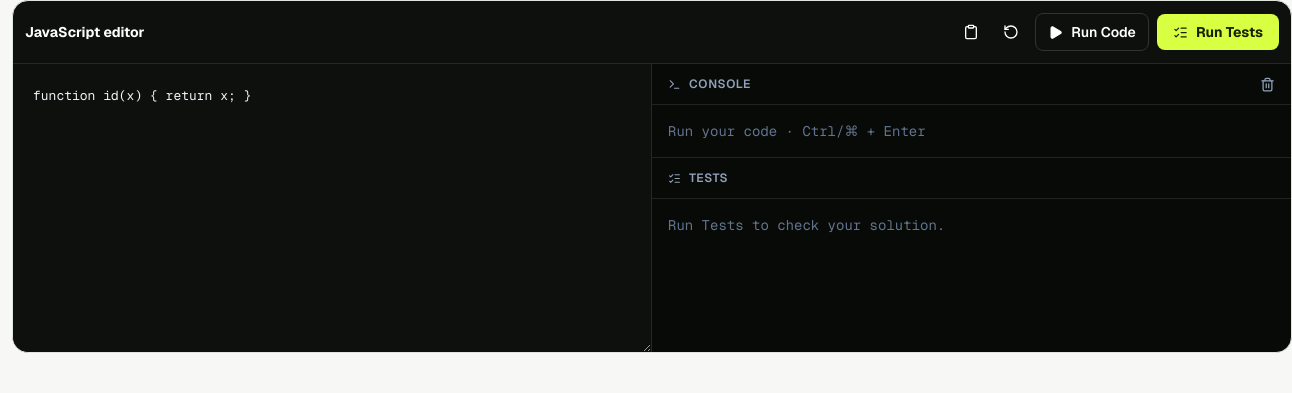
Test: CodeRunner › reports pass/fail counts and expected/received for a visible failure
Click the button "Run Tests": (1218, 32) [1157,14,1279,50]
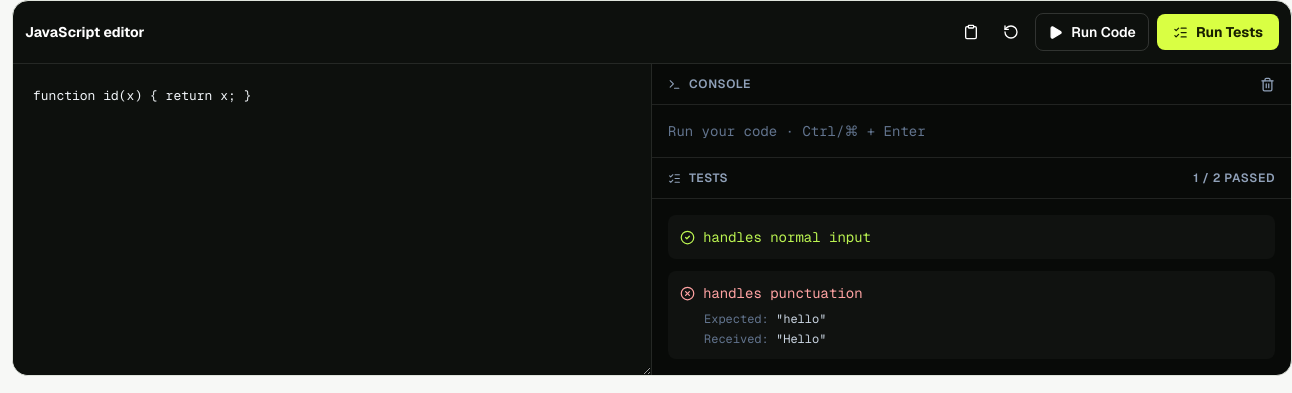
Now the text "1 / 2 passed" is shown, box [1193,170,1275,186]
Now the text "handles normal input" is shown, box [703,227,871,247]
Now the text "handles punctuation" is shown, box [703,283,863,303]
